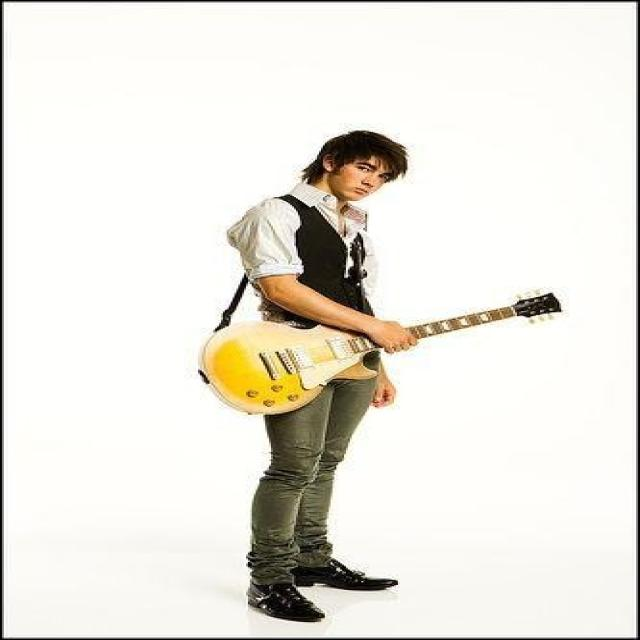guitar: (199, 290, 573, 422)
